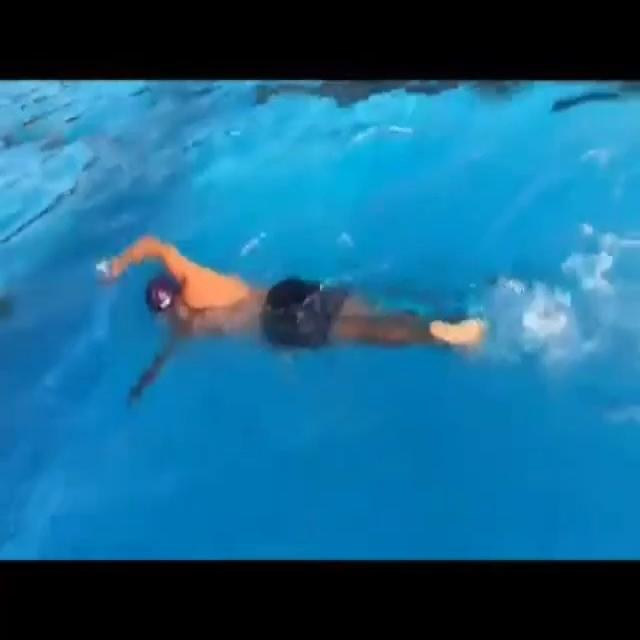Swimming: (84, 230, 517, 400)
